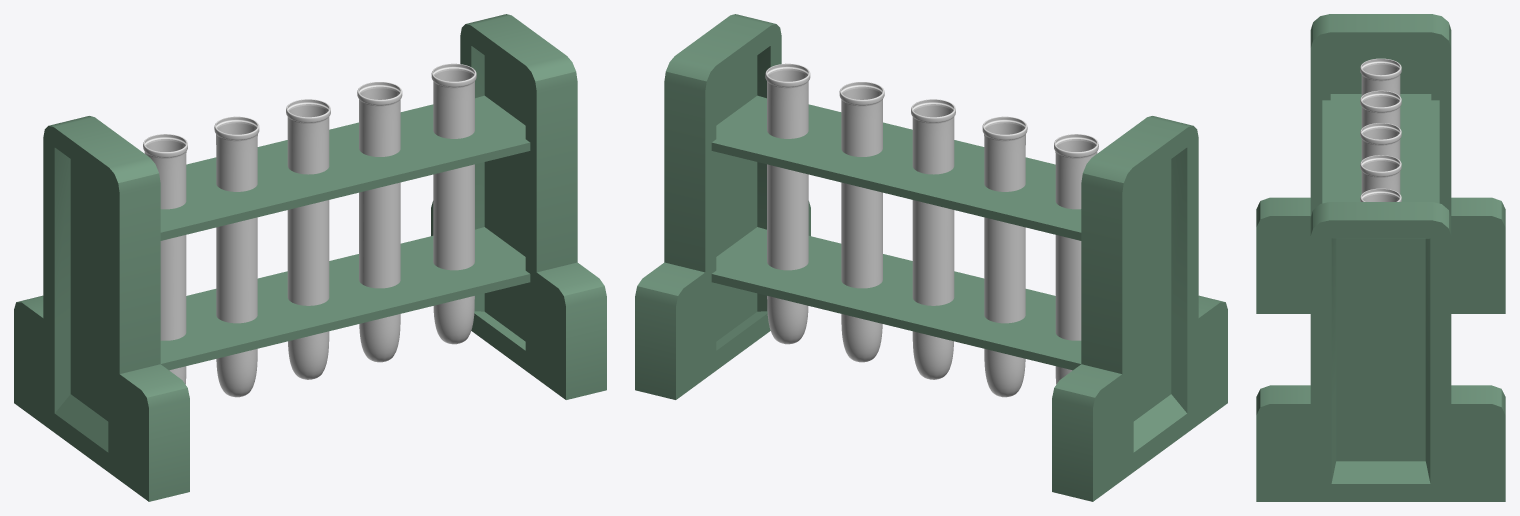
The model's file is Rak dan tabung reaksi kosong.fbx.
3 renders of one model, left to right at view 1: azimuth 30°, elevation 25°; view 2: azimuth 150°, elevation 25°; view 3: azimuth 270°, elevation 25°, orthographic. The views are drawn at different scales.
Parts seen in each view (by area): view 1: alat_lab_11:Cube, alat_lab_11:alat_lab_11; view 2: alat_lab_11:Cube, alat_lab_11:alat_lab_11; view 3: alat_lab_11:Cube, alat_lab_11:alat_lab_11.
Part boxes in pixels (x1,y1,x2,y2): alat_lab_11:Cube: (14, 14, 606, 501); alat_lab_11:alat_lab_11: (143, 63, 476, 397); alat_lab_11:Cube: (635, 14, 1227, 501); alat_lab_11:alat_lab_11: (765, 63, 1098, 397); alat_lab_11:Cube: (1256, 14, 1505, 501); alat_lab_11:alat_lab_11: (1360, 58, 1401, 201).
Size of the model in its own units: 3.75 by 2.39 by 1.92.
